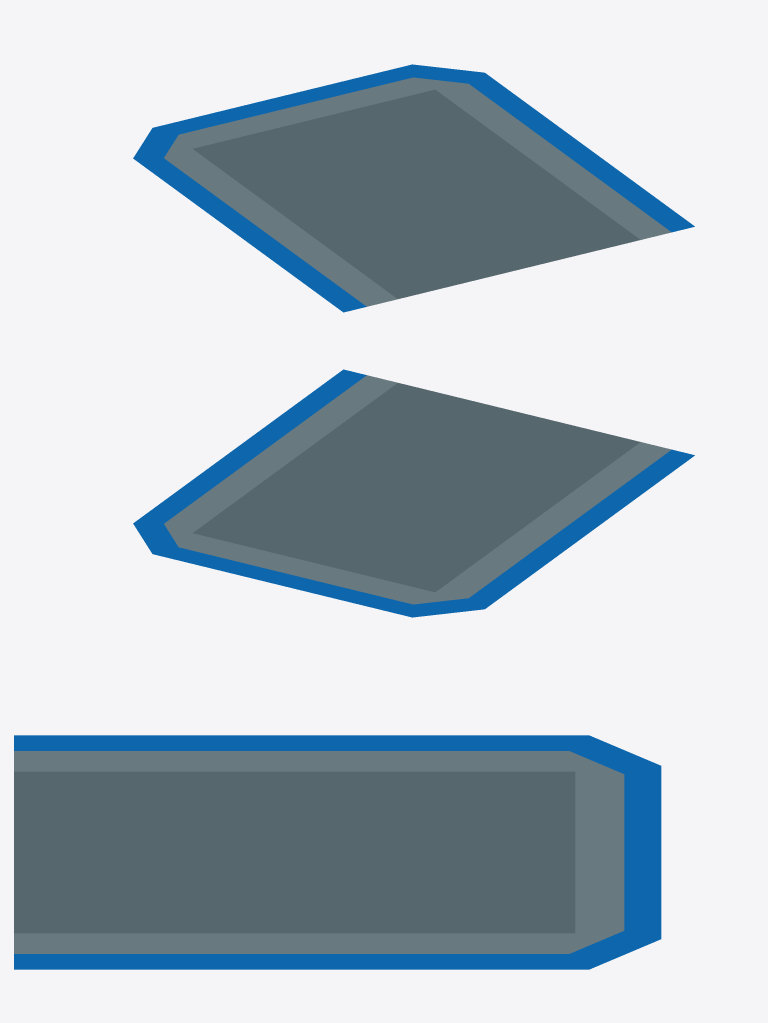
File: Ceiling_type_C_031.fbx
The picture shows the model from 3 angles, top to bottom: view 1: azimuth 30°, elevation 25°; view 2: azimuth 150°, elevation 25°; view 3: azimuth 270°, elevation 25°; orthographic projection. The views are drawn at different scales.
Visible parts, largest first — view 1: Ceiling_type_C_031; view 2: Ceiling_type_C_031; view 3: Ceiling_type_C_031.
Boxes of the visible parts, left/top/right/bottom form: Ceiling_type_C_031: left=133, top=64, right=694, bottom=312; Ceiling_type_C_031: left=133, top=369, right=694, bottom=617; Ceiling_type_C_031: left=14, top=735, right=661, bottom=969.
Size of the model in its own units: 400 by 400 by 6.18.
